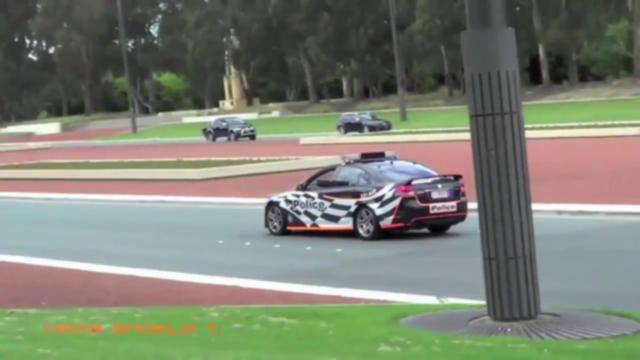police_car: (262, 152, 470, 246)
